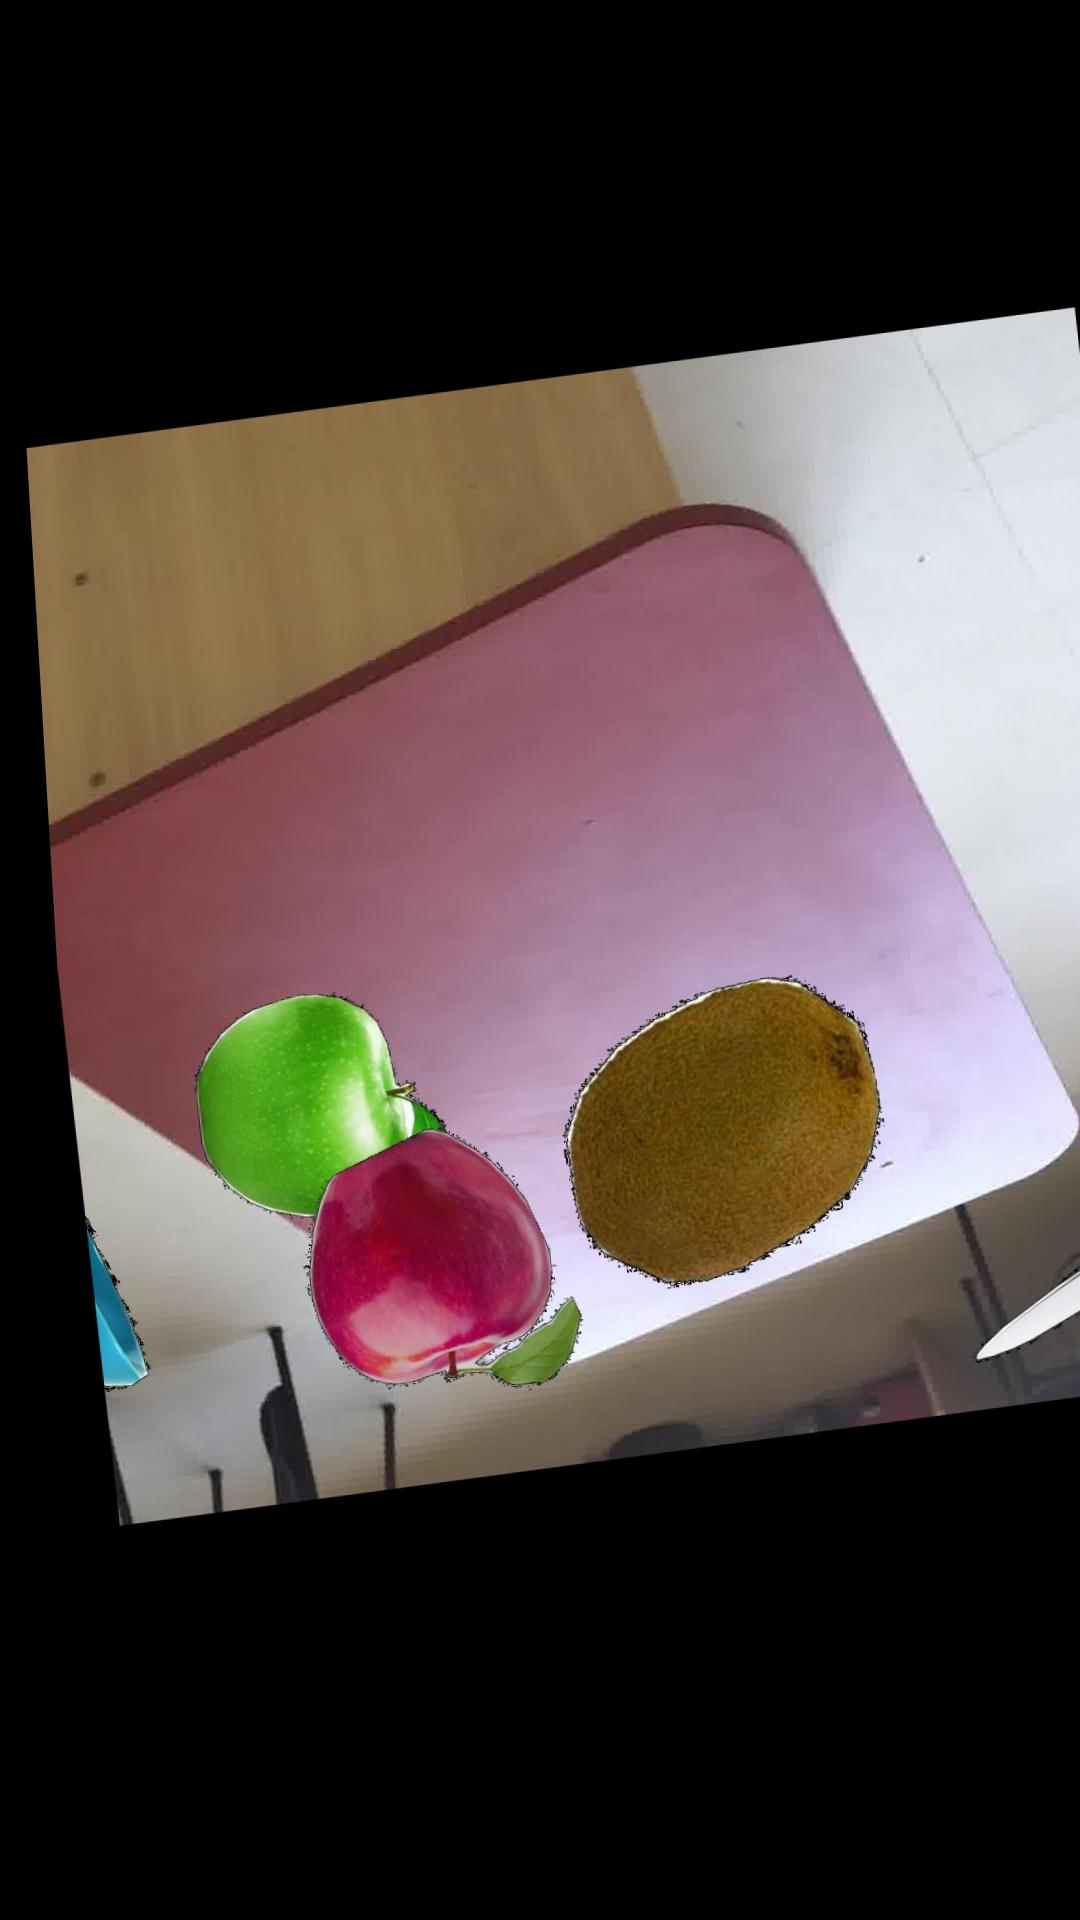apple: (284, 1133, 563, 1391)
green apple: (178, 997, 429, 1220)
kiwi: (546, 986, 864, 1296)
